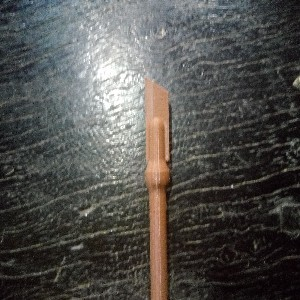cutter: (143, 73, 171, 300)
